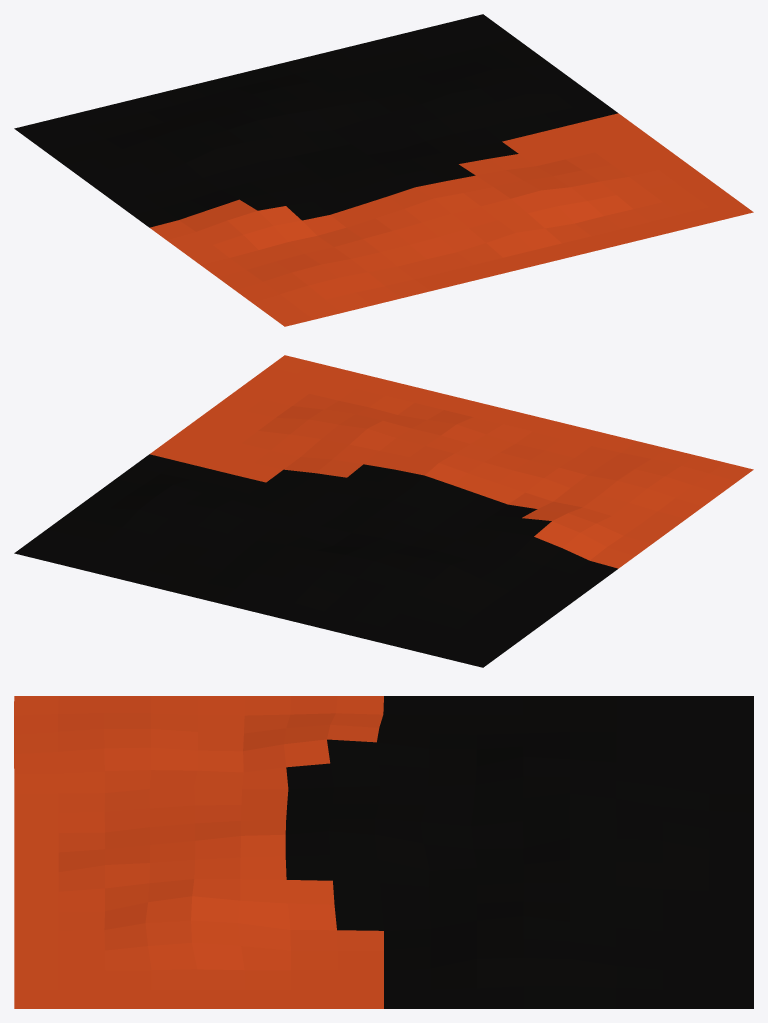
File: SandHot3.FBX
3 views of the same model, one above another, from view 1: azimuth 30°, elevation 25°; view 2: azimuth 150°, elevation 25°; view 3: azimuth 270°, elevation 25° (orthographic). The views are drawn at different scales.
Parts seen in each view (by area): view 1: Terrain.002; view 2: Terrain.002; view 3: Terrain.002.
Boxes of the visible parts, x1,y1,x2,y2 form: Terrain.002: (14,14,753,326); Terrain.002: (14,355,753,667); Terrain.002: (14,696,753,1008).
Bounding box in the file's own units: 800 × 800 × 23.83.
